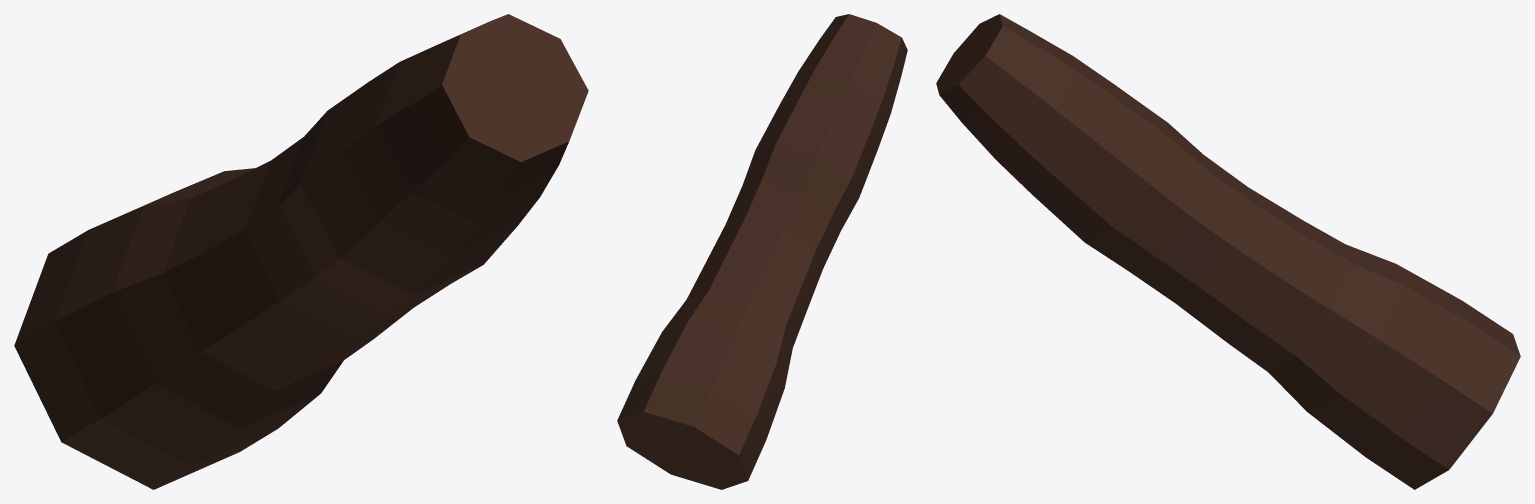
Rendered from blocked_path_move.fbx.
3 renders of one model, left to right at view 1: azimuth 30°, elevation 25°; view 2: azimuth 150°, elevation 25°; view 3: azimuth 270°, elevation 25°, orthographic. The views are drawn at different scales.
Parts seen in each view (by area): view 1: Icosphere.001; view 2: Icosphere.001; view 3: Icosphere.001.
Boxes of the visible parts, <box> form: Icosphere.001: <box>14,14,588,489</box>; Icosphere.001: <box>617,14,907,489</box>; Icosphere.001: <box>936,14,1520,489</box>.
Size of the model in its own units: 94.49 by 257 by 296.
